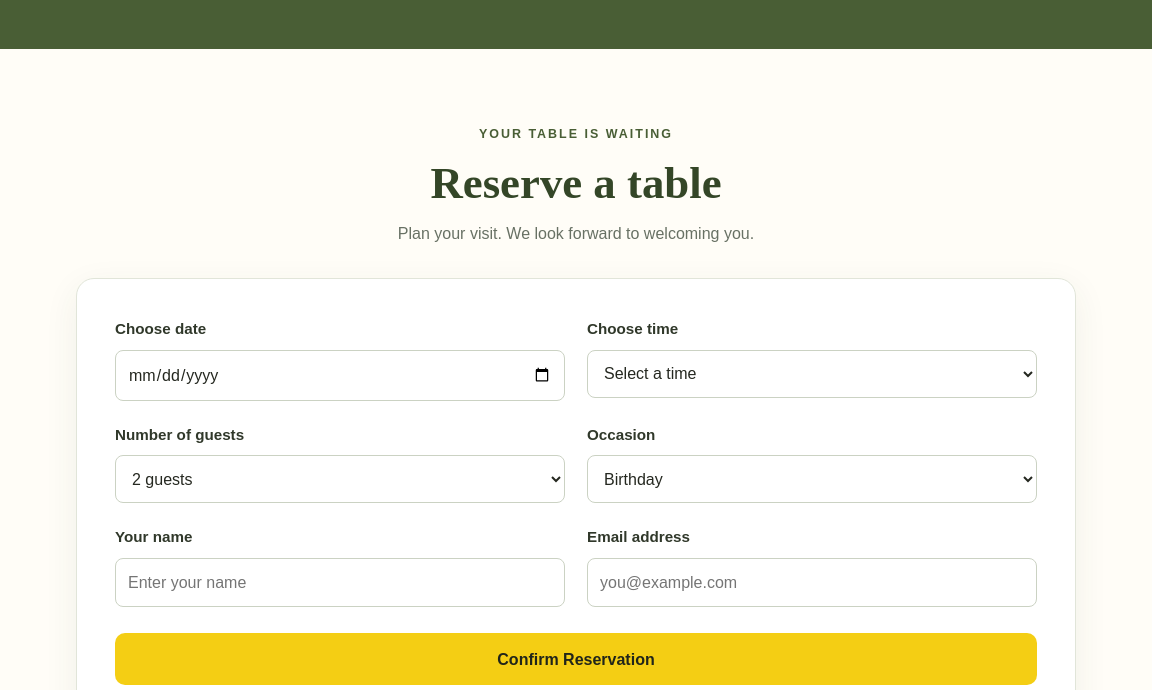
Test case: Booking form › shows a confirmation for valid booking details
(page scrolled)
Type "2026-12-20" into the date field labelled "Choose date" at (340,375), box [115,350,565,401]
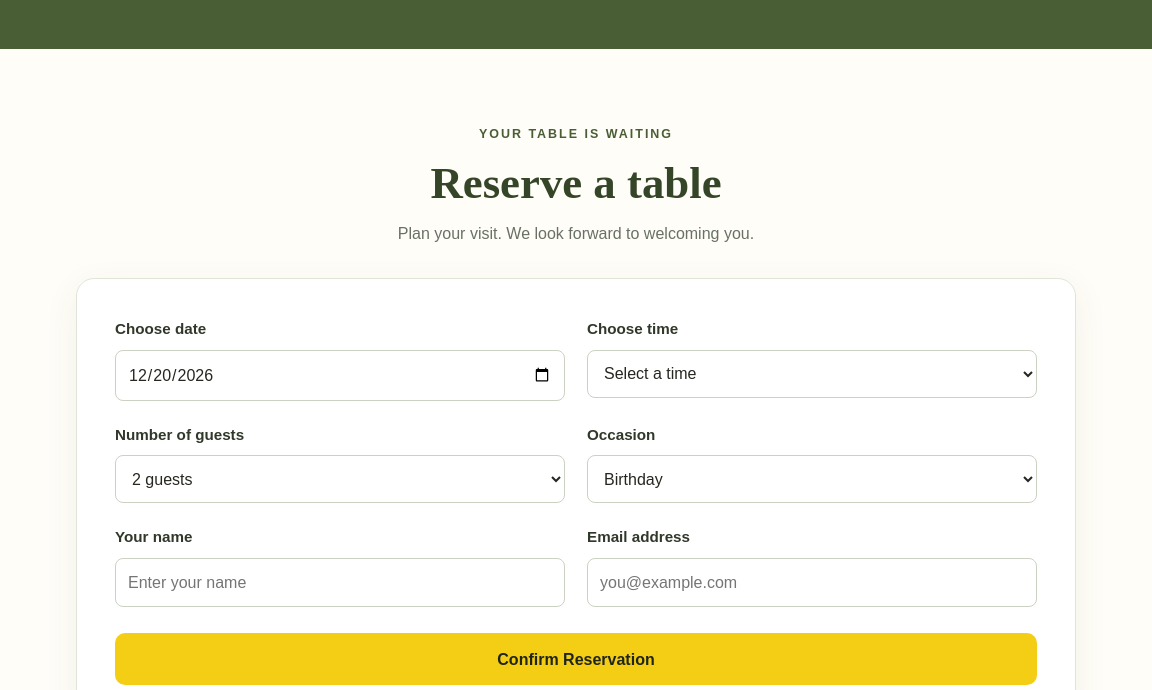
Select "18:00" in the dropdown labelled "Choose time" at (812,374), box [587,350,1037,398]
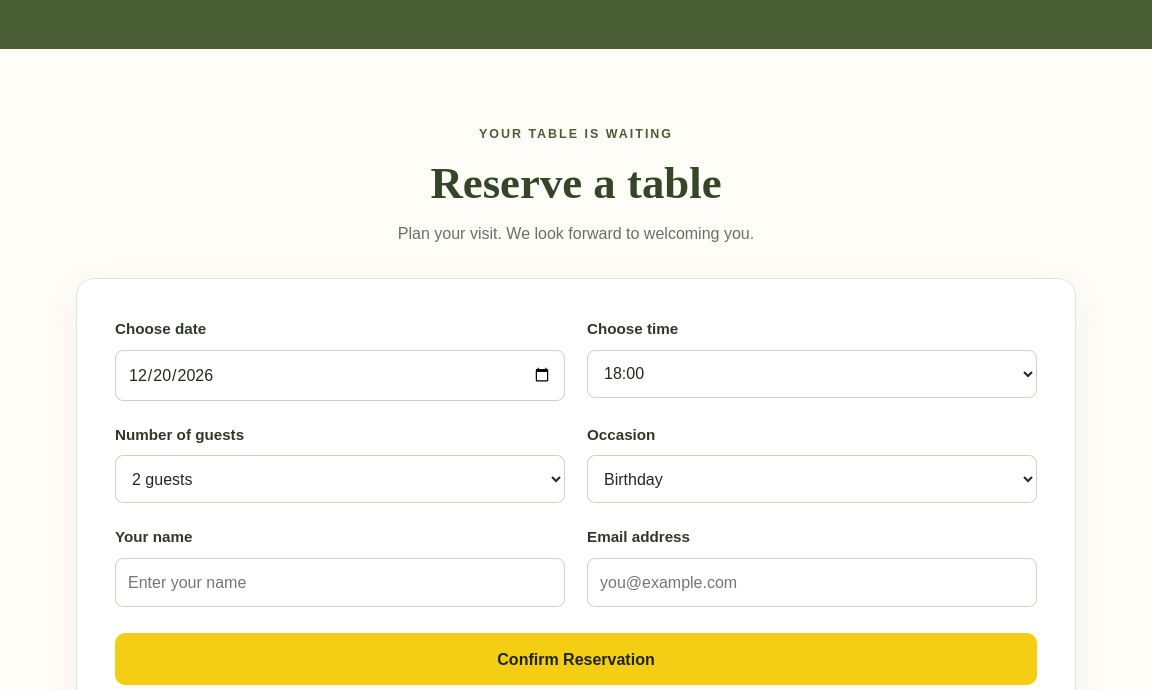
Type "Dalia" into the field labelled "Your name" at (340,583), box [115,558,565,607]
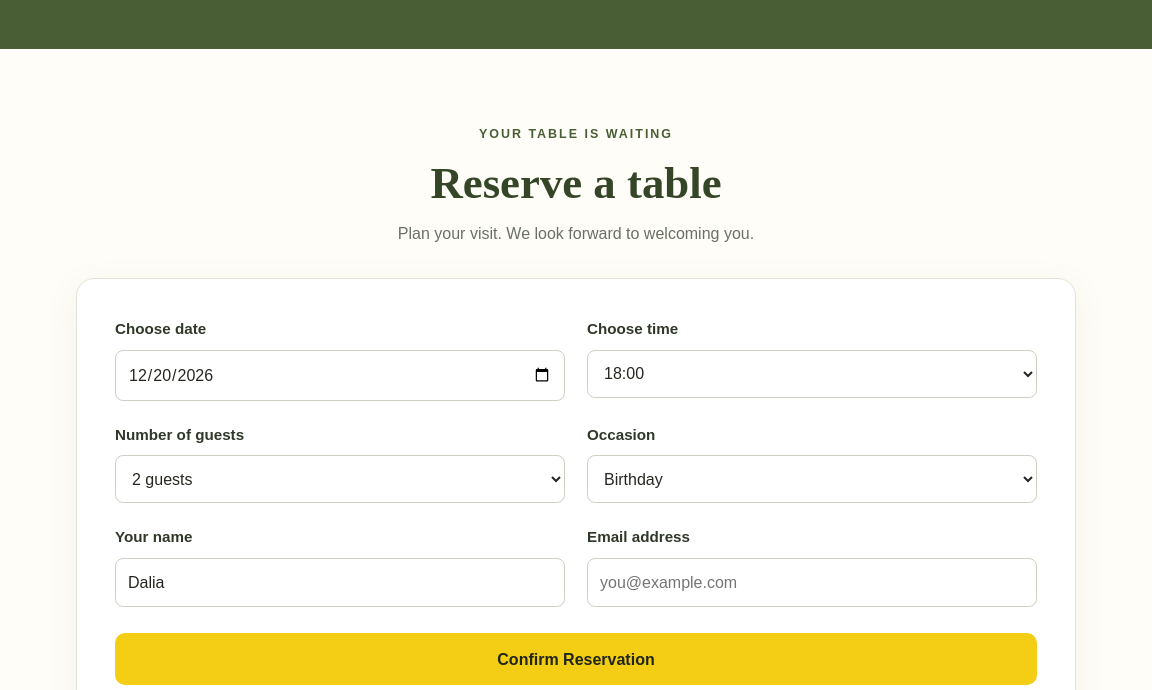
Type "dalia@example.com" into the field labelled "Email address" at (812,583), box [587,558,1037,607]
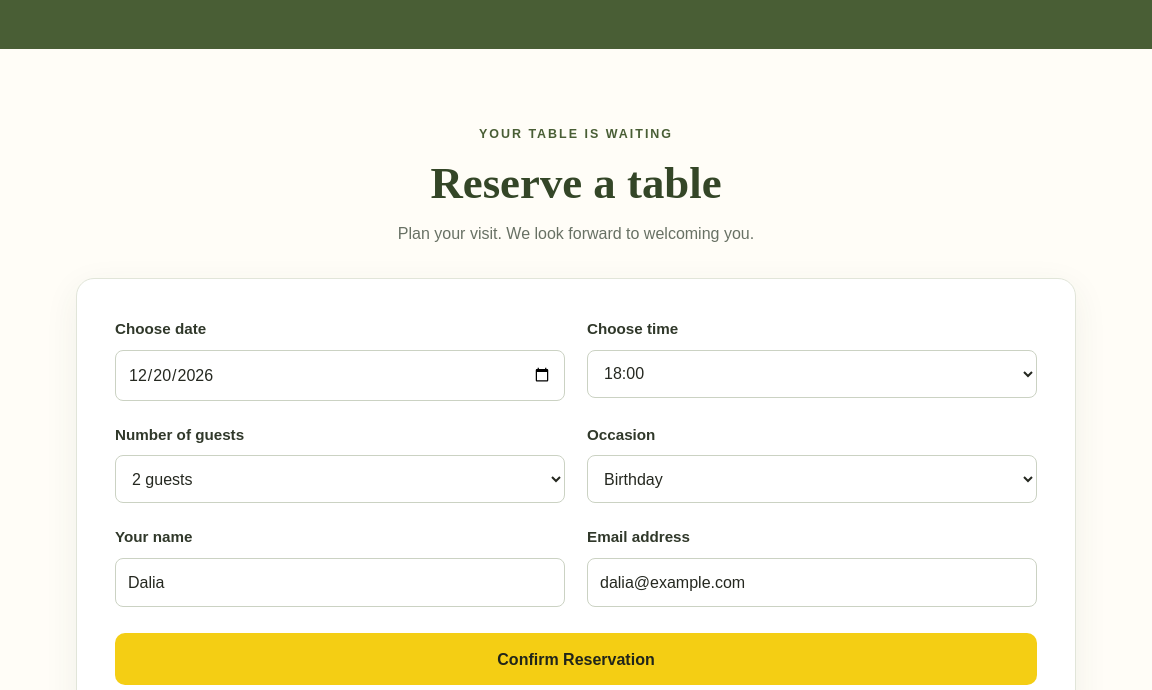
Click the button "Confirm Reservation" at (576,659), box [115,633,1037,685]
(page scrolled)
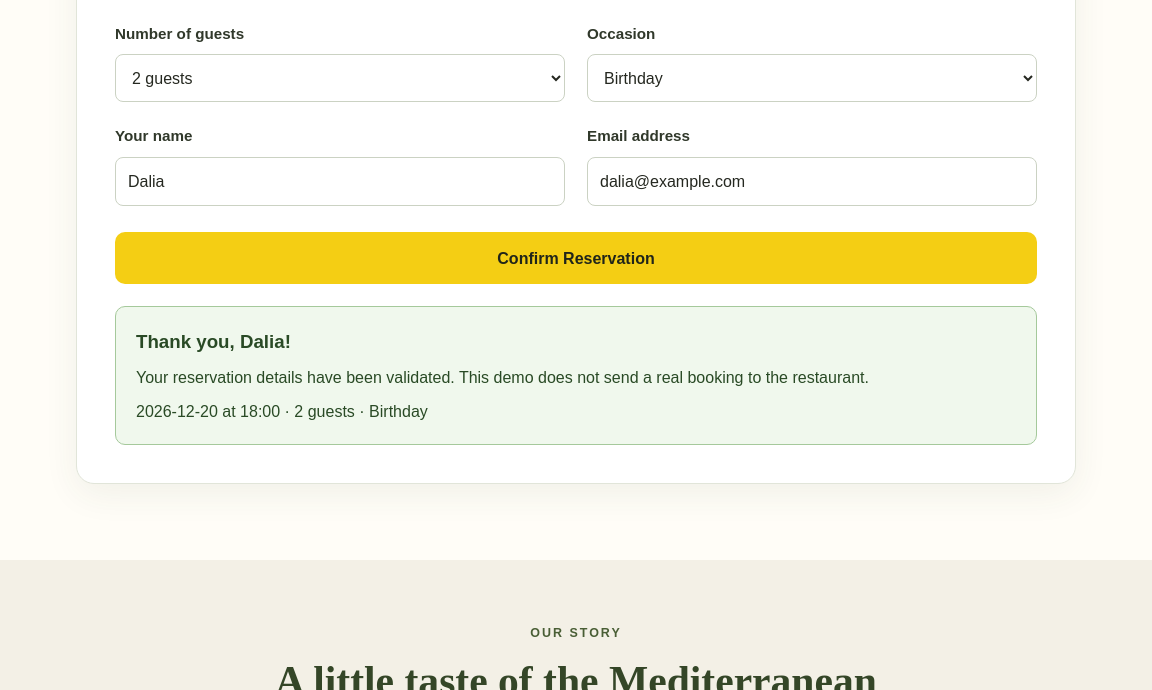
Expected: the message shows "Thank you, Dalia!", [115,306,1037,446]
Expected: the message shows "18:00", [240,403,280,420]
